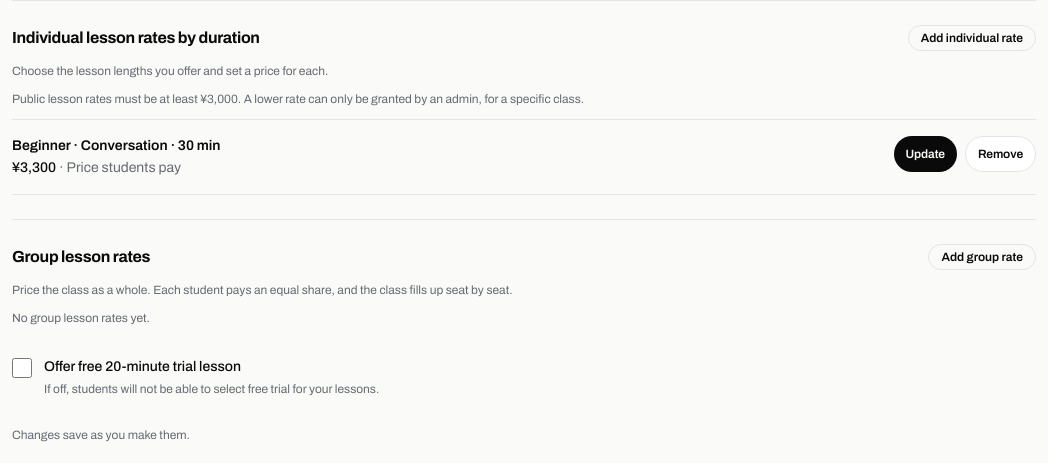
TeacherLessonOfferingsForm — everything saves itself › keeps the class listed when the server refuses to delete it
Step 1. Click the button "Remove" → (1000, 154), box [965,136,1036,172]
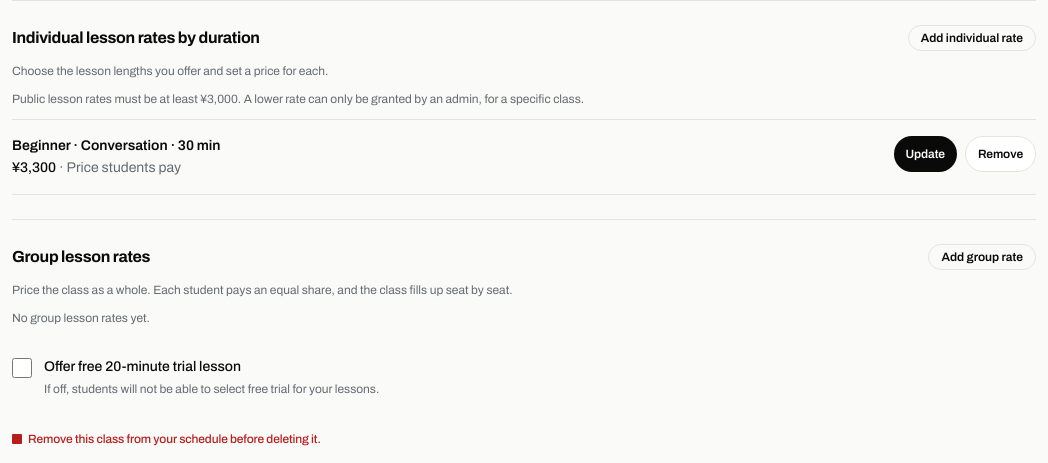
Expected: the text "Beginner · Conversation · 30 min" is shown, [12,138,220,153]
Now the text "Remove this class from your schedule before deleting it." is shown, box [12,431,321,447]
